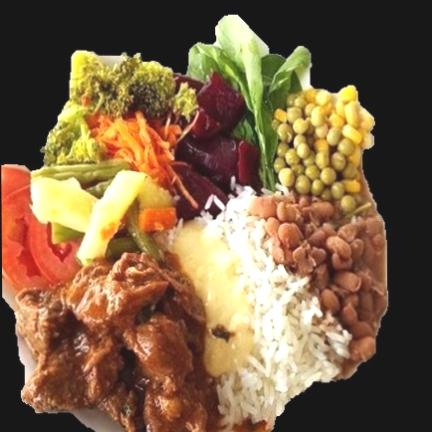beans: (258, 198, 386, 360)
beet: (175, 72, 261, 218)
broccoli: (42, 51, 196, 165)
carrot: (88, 111, 193, 203)
meat: (17, 253, 219, 432)
potato: (172, 222, 253, 377)
rice: (195, 189, 351, 429)
salad: (188, 15, 310, 189)
tomato: (1, 166, 79, 289), (1, 165, 57, 290)
